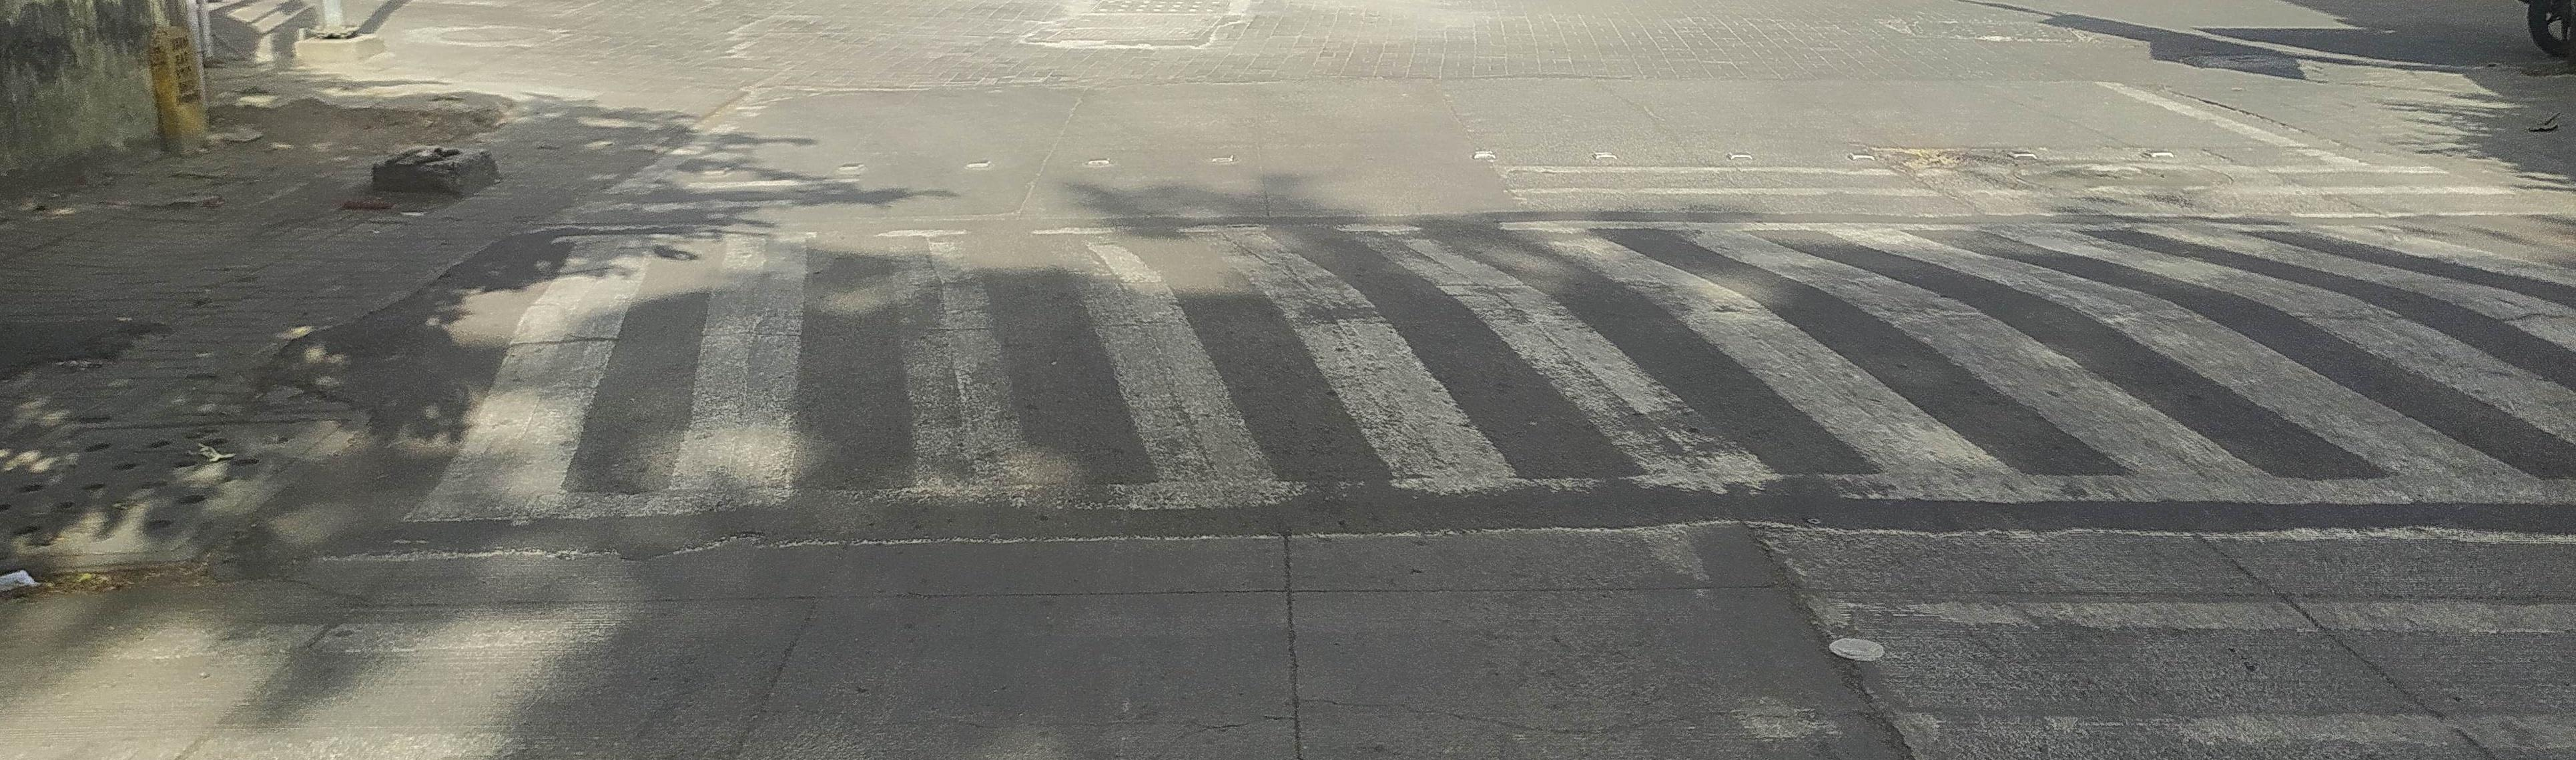speed-bump: (242, 192, 2571, 548)
